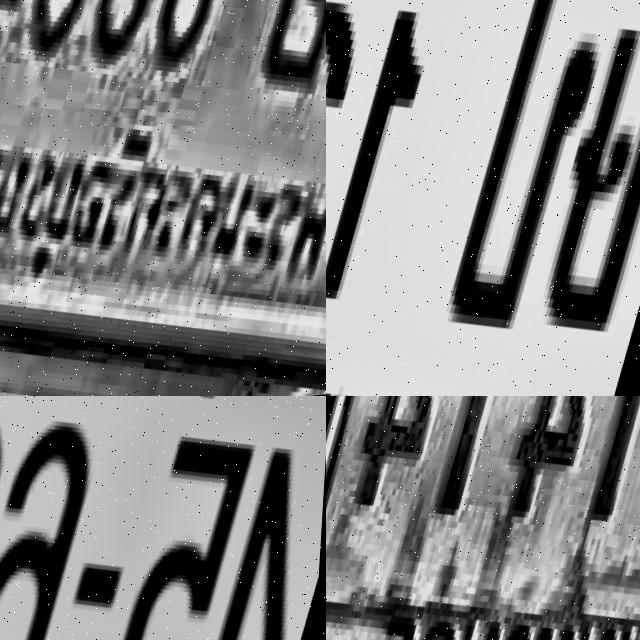license-plate: (0, 0, 326, 396), (326, 0, 640, 396), (0, 396, 326, 640), (326, 396, 640, 640)
